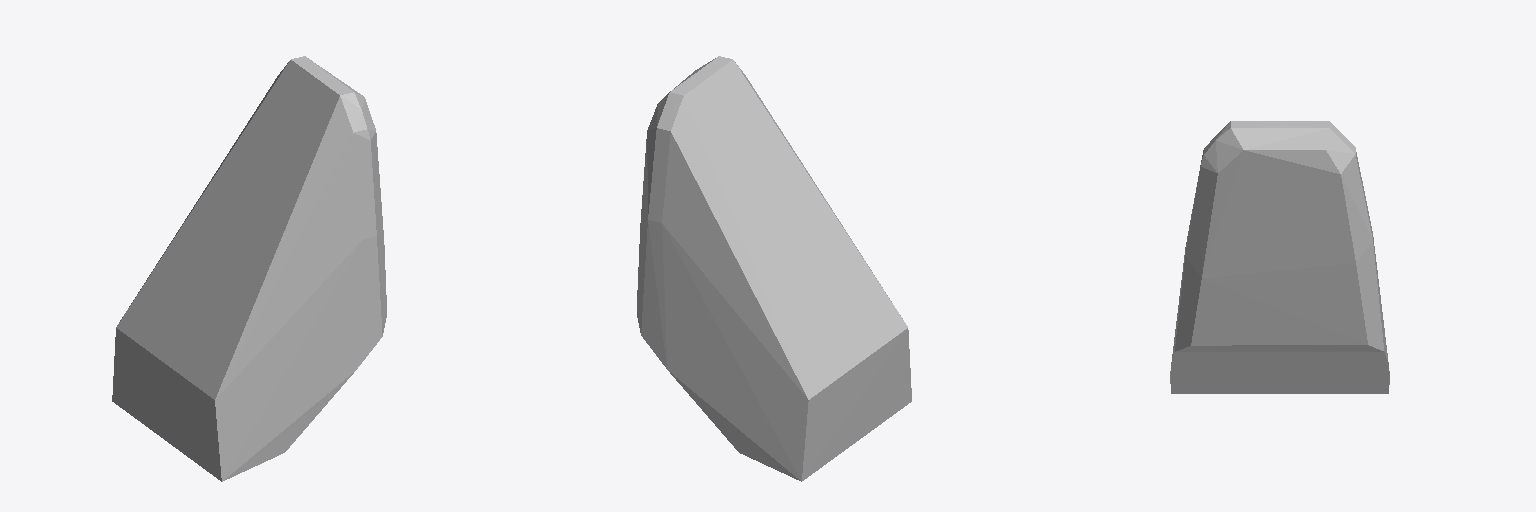
The model's file is solo_12_base_collision_9.obj.
3 views of the same model, side by side, from view 1: azimuth 30°, elevation 25°; view 2: azimuth 150°, elevation 25°; view 3: azimuth 270°, elevation 25° (orthographic).
Size of the model in its own units: 0.0385 by 0.0665 by 0.0405.